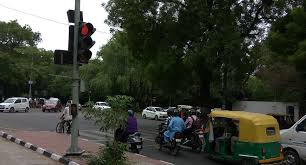signal: (78, 21, 93, 63)
